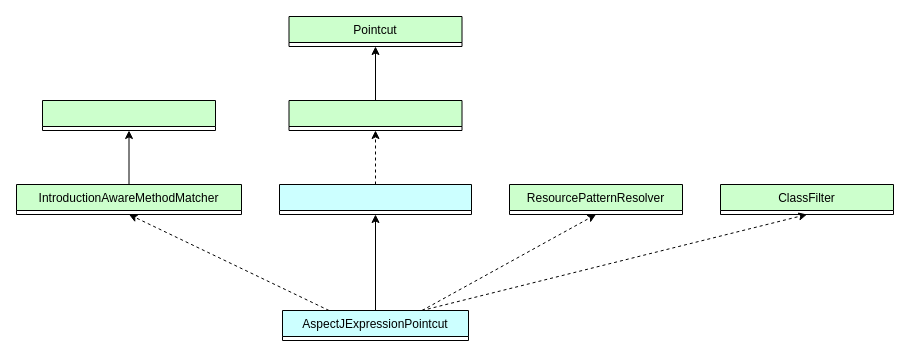
The diagram is 910 pixels wide and 357 high, and some of its shapes have lost their labels. Here are the shapes that lost their labels. From the top down, the box of each, then its label:
(42, 100, 216, 130): MethodMatcher
(288, 100, 462, 130): BeanFactoryAware
(278, 184, 472, 214): AbstractExpressionPointcut
